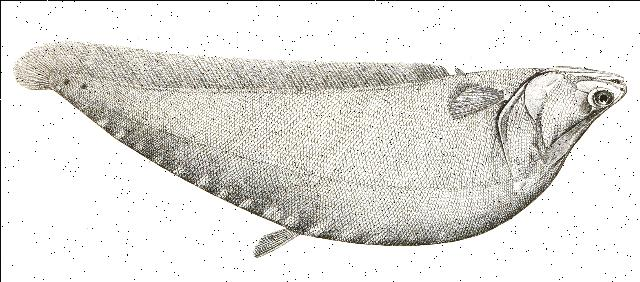Mulut: (574, 67, 634, 107)
Sirip Dada: (433, 79, 512, 126)
Sirip Perut: (450, 62, 466, 75)
Sirip Punggung: (242, 218, 302, 268)
